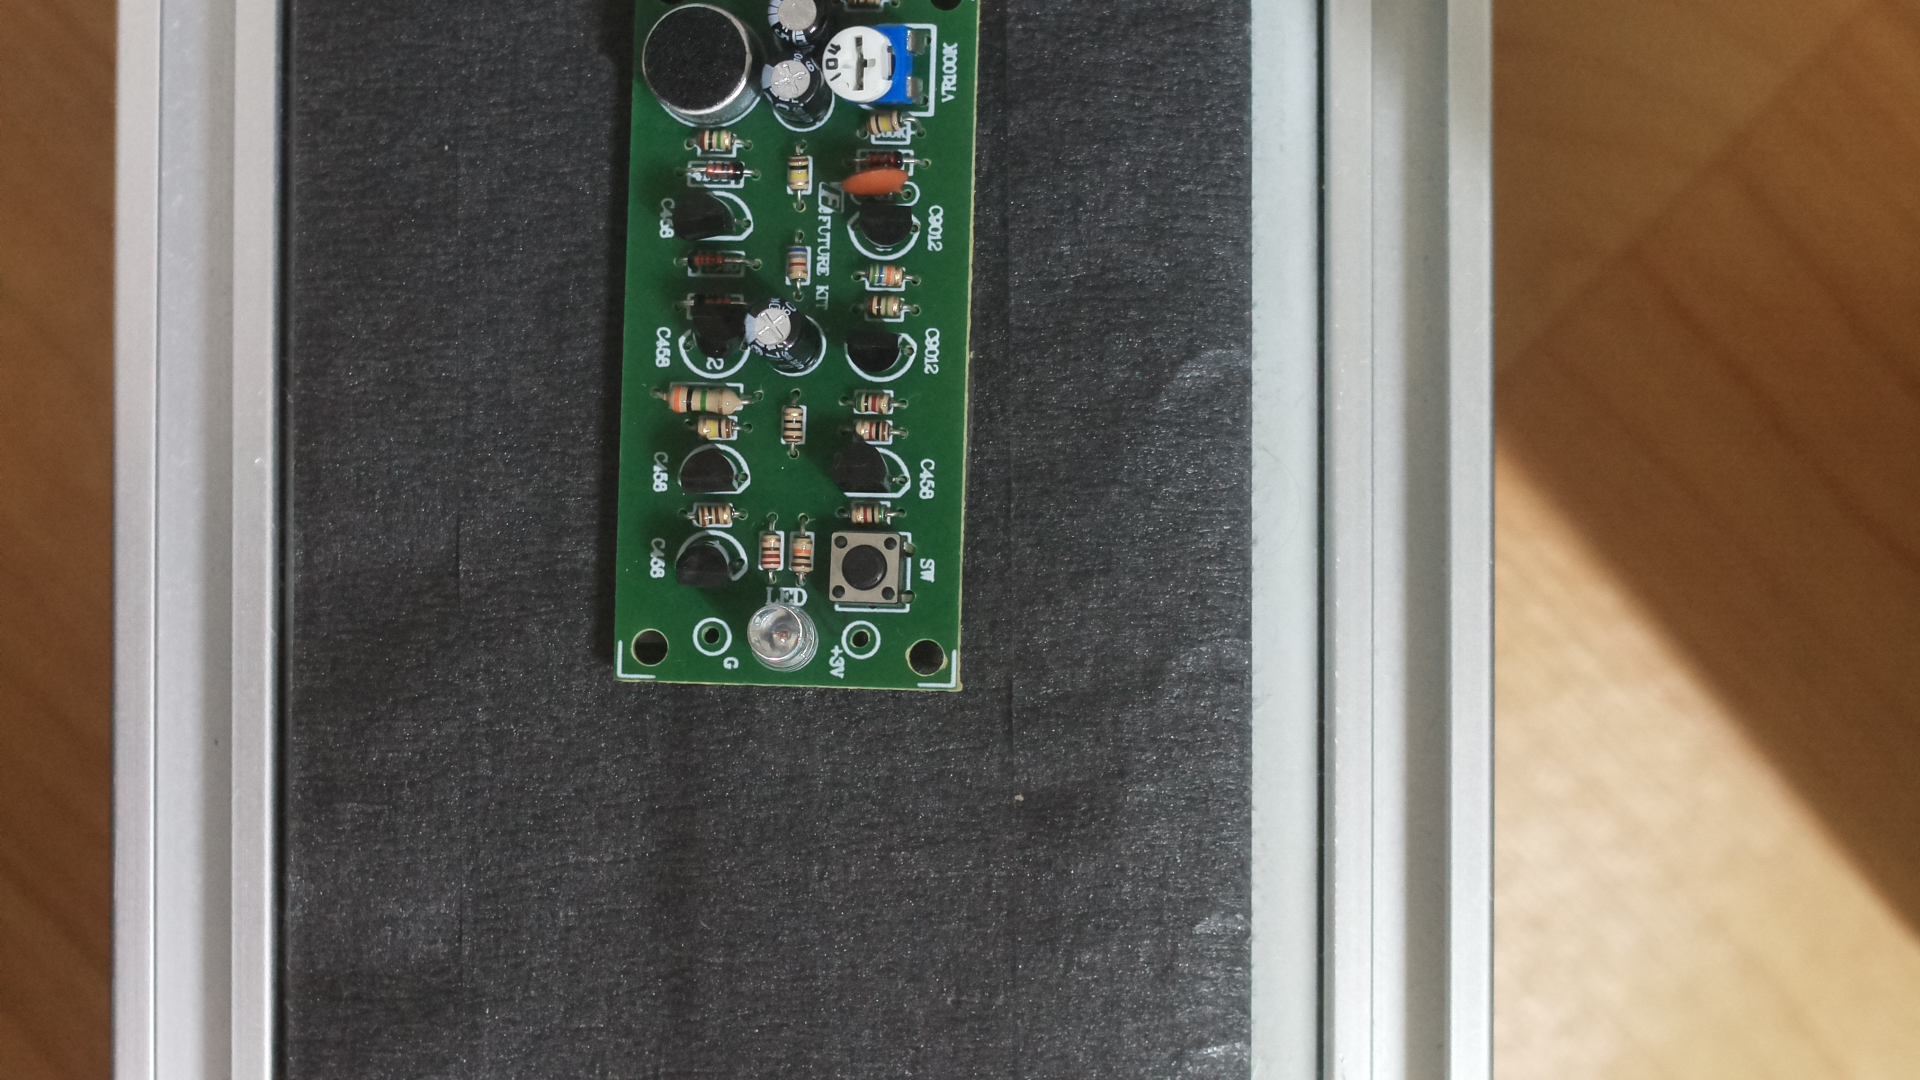A_Normal: (599, 7, 1001, 696)
